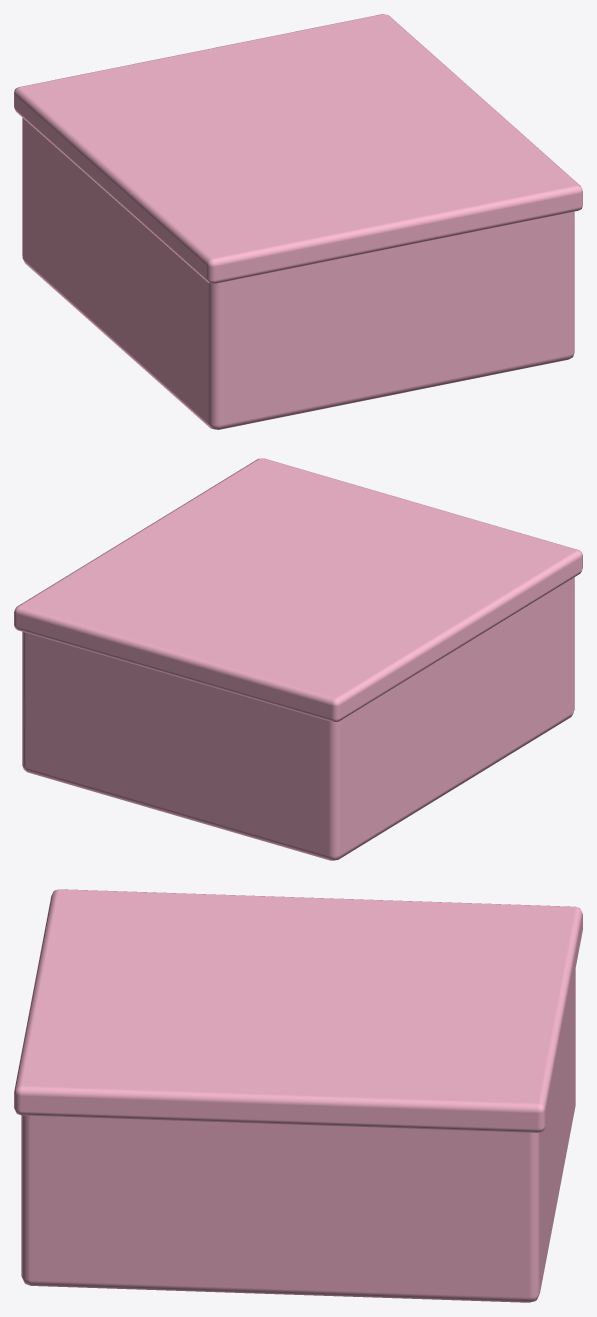
The model's file is wardrobe_box_b.fbx.
3 views of the same model, one above another, from view 1: azimuth 30°, elevation 25°; view 2: azimuth 150°, elevation 25°; view 3: azimuth 270°, elevation 25° (orthographic). The views are drawn at different scales.
Visible parts, largest first — view 1: wardrobe_box_b; view 2: wardrobe_box_b; view 3: wardrobe_box_b.
Boxes of the visible parts, bbox=[...] form: wardrobe_box_b: bbox=[14, 14, 582, 429]; wardrobe_box_b: bbox=[14, 458, 582, 860]; wardrobe_box_b: bbox=[14, 889, 582, 1302].
Bounding box in the file's own units: 0.4006 × 0.1725 × 0.4373.
